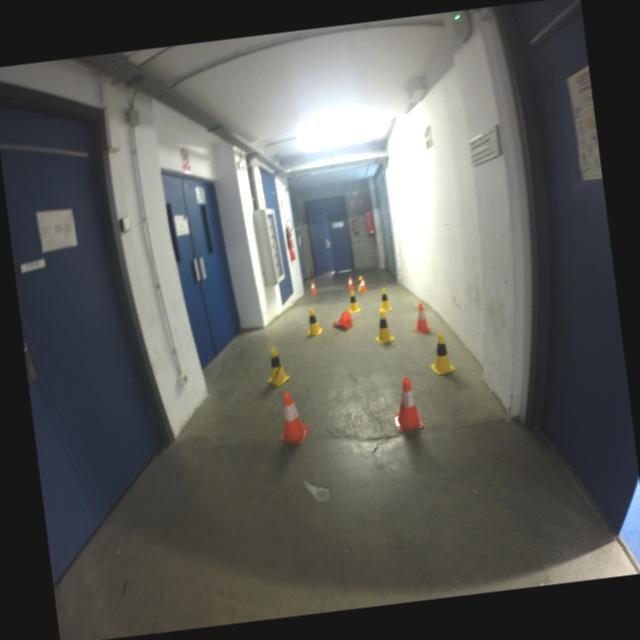orange_cone: (272, 388, 312, 446), (390, 375, 424, 432), (409, 300, 433, 334), (331, 310, 353, 332), (357, 274, 368, 292), (345, 275, 355, 290), (308, 280, 318, 294)
yellow_cone: (425, 330, 456, 376), (262, 344, 292, 386), (370, 308, 394, 344), (303, 306, 323, 336), (376, 287, 392, 312), (346, 288, 360, 312), (356, 274, 367, 292)
